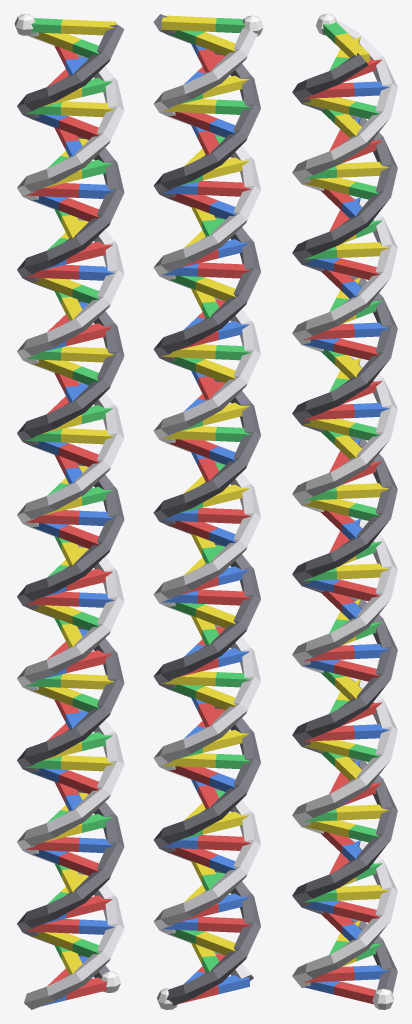
Rendered from DNA_Helix_Whole.fbx.
3 views of the same model, side by side, from view 1: azimuth 30°, elevation 25°; view 2: azimuth 210°, elevation 25°; view 3: azimuth 330°, elevation 25° (orthographic).
Parts seen in each view (by area): view 1: DNA_Helix_Whole; view 2: DNA_Helix_Whole; view 3: DNA_Helix_Whole.
Part boxes in pixels (left/top/right/bottom): DNA_Helix_Whole: left=14, top=14, right=124, bottom=1009; DNA_Helix_Whole: left=153, top=14, right=263, bottom=1009; DNA_Helix_Whole: left=292, top=14, right=397, bottom=1009.
Bounding box in the file's own units: 0.0615 × 0.603 × 0.0571.
